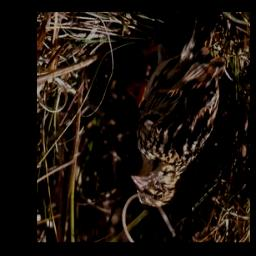Sparrow: (128, 13, 227, 208)
